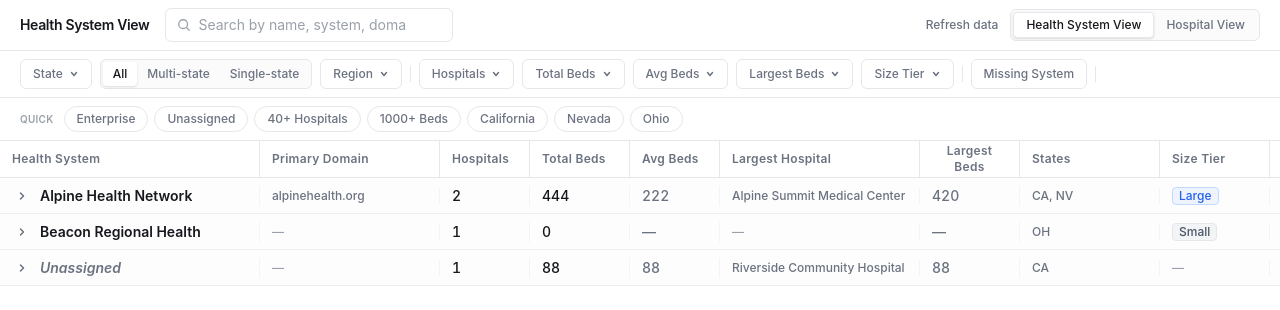
Test: HealthSystemView with quick chips and pills › chip state matches advanced filter state bidirectionally (VAL-FILTER-031)
The image size is (1280, 310).
Check: the table named "Health System View" is shown, box top-left (0, 141), bottom-right (1279, 286)
Click the button "State" at (56,74), box top-left (20, 59), bottom-right (92, 89)
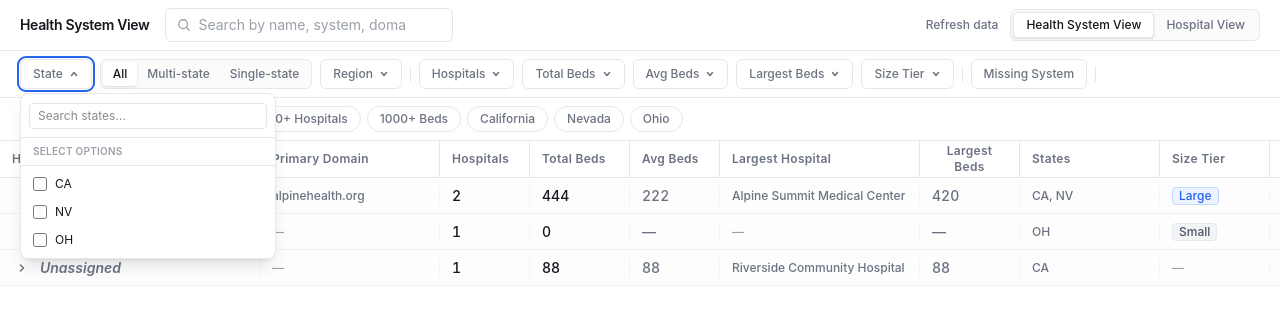
Click the text "CA" below "Select options" at (63,184), box top-left (55, 176), bottom-right (72, 192)
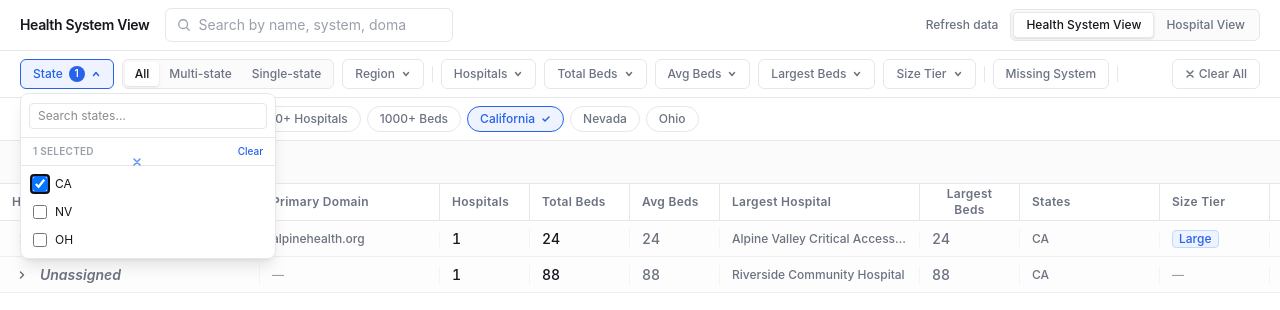
Check: the button "California" is pressed
Click the button "California" at (516,119), box top-left (467, 106), bottom-right (564, 132)
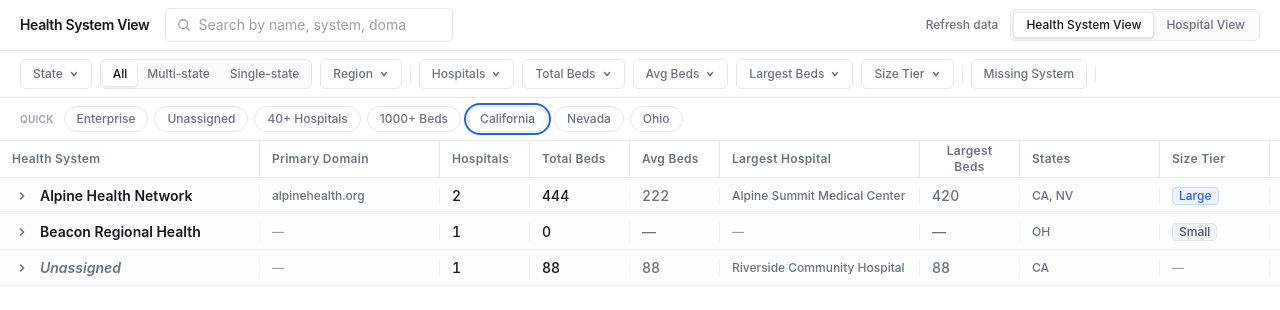
Check: the button "State" no longer shows "1"
